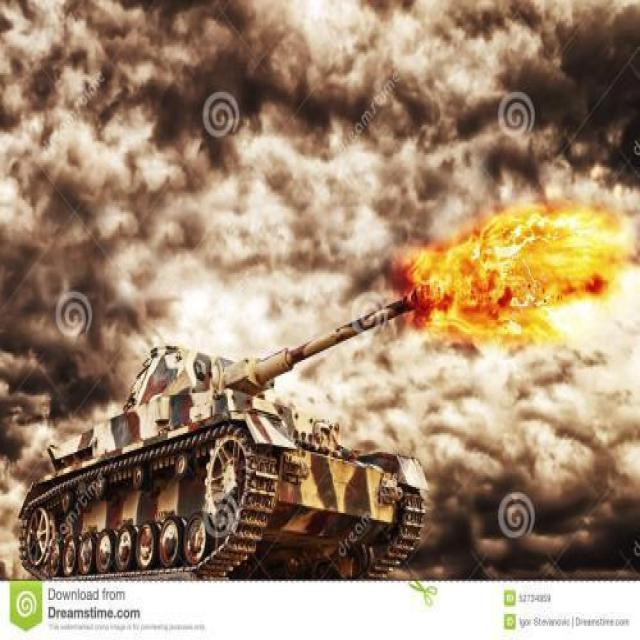fire: (413, 210, 624, 357)
smoke: (1, 0, 377, 337), (388, 12, 616, 198), (367, 356, 618, 476), (450, 484, 603, 556)
